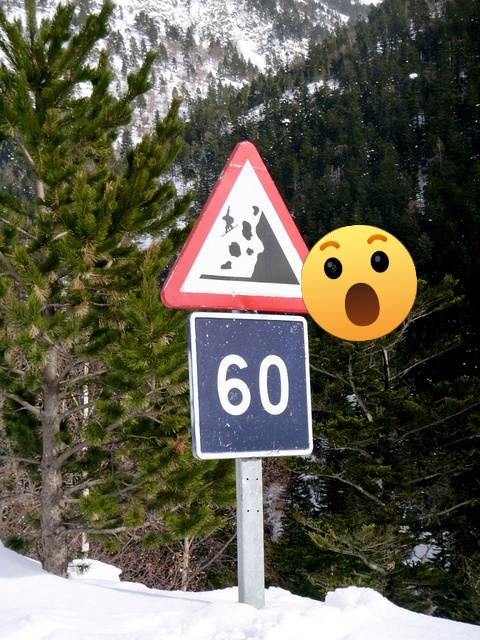wow: (301, 225, 417, 341)
